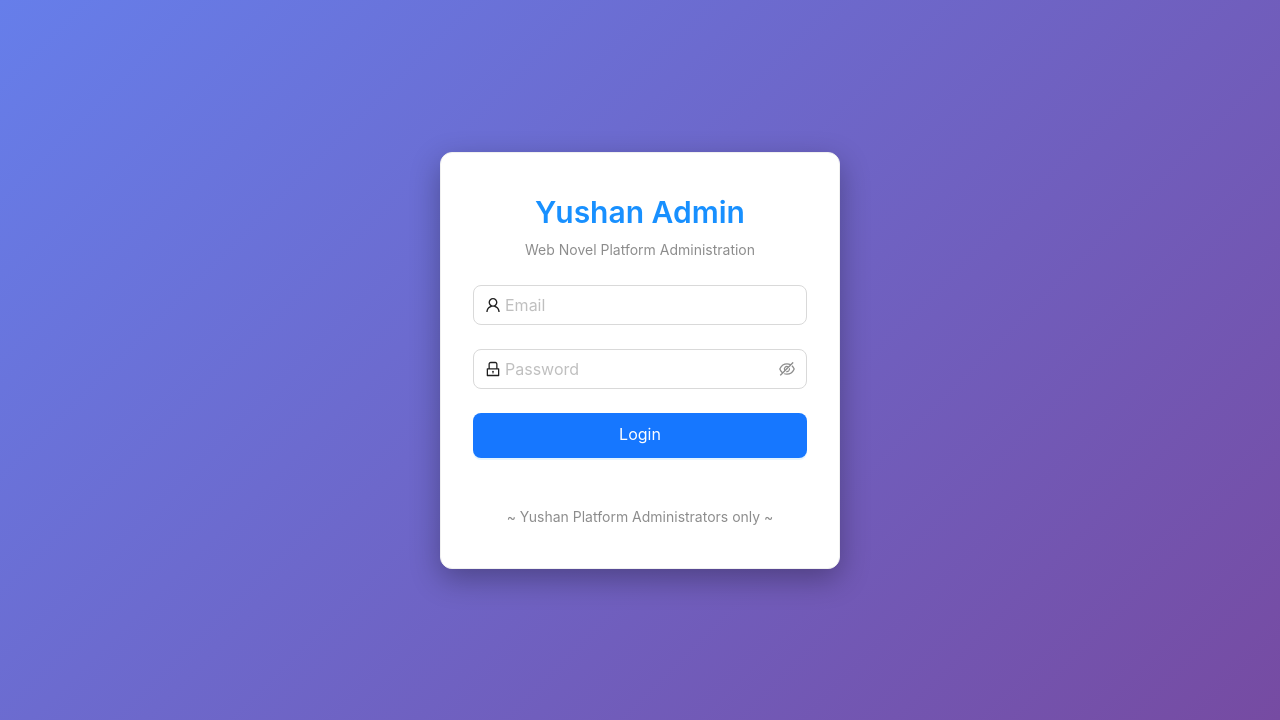
Test: AdminLogin Component › Form Validation › shows validation error for empty email
The image size is (1280, 720).
Click the button "Login" at [640, 435], box [473, 412, 807, 458]
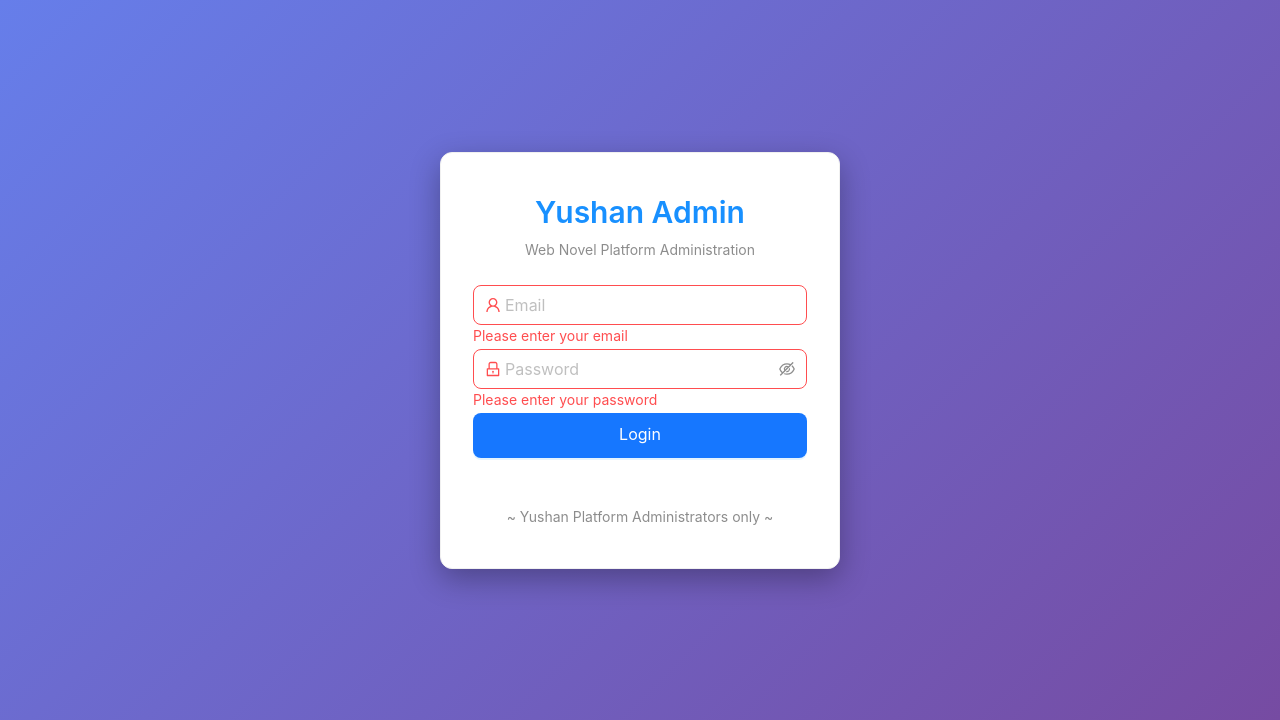
Result: the text "Please enter your email" is shown at [473, 326, 628, 344]
